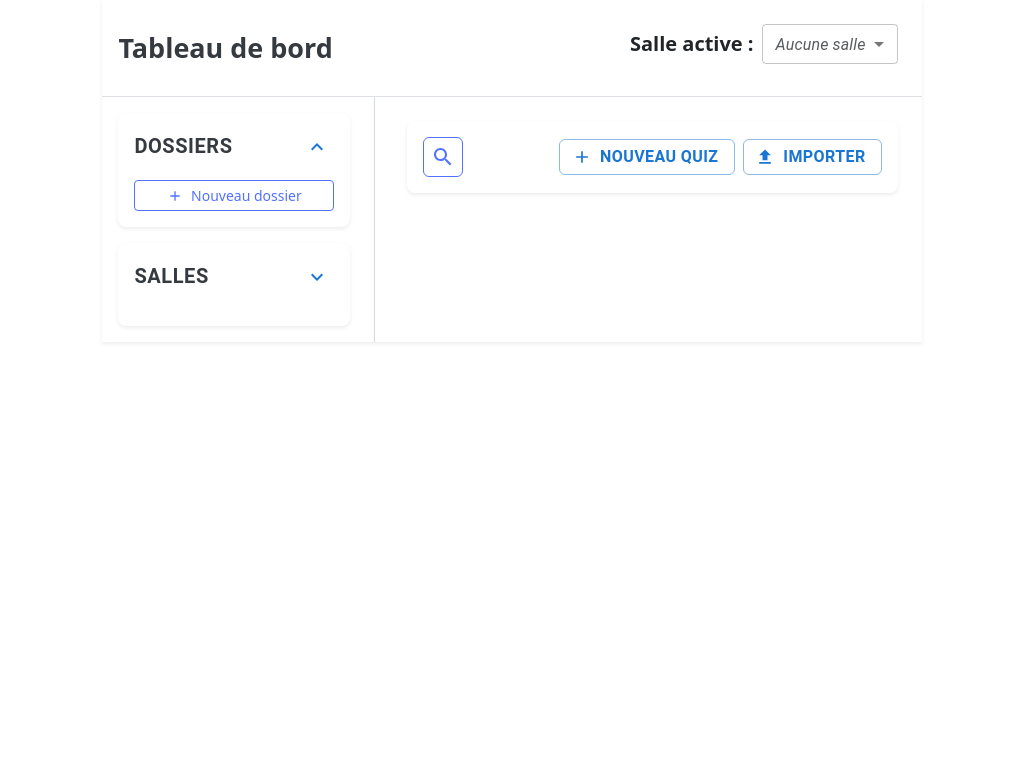
Test: DashboardV2 Component › Room Management › should open room creation dialog when selecting "Nouvelle salle"
# First expand the room options section
Click the button "Salles" at (172, 276), box [134,259,209,294]
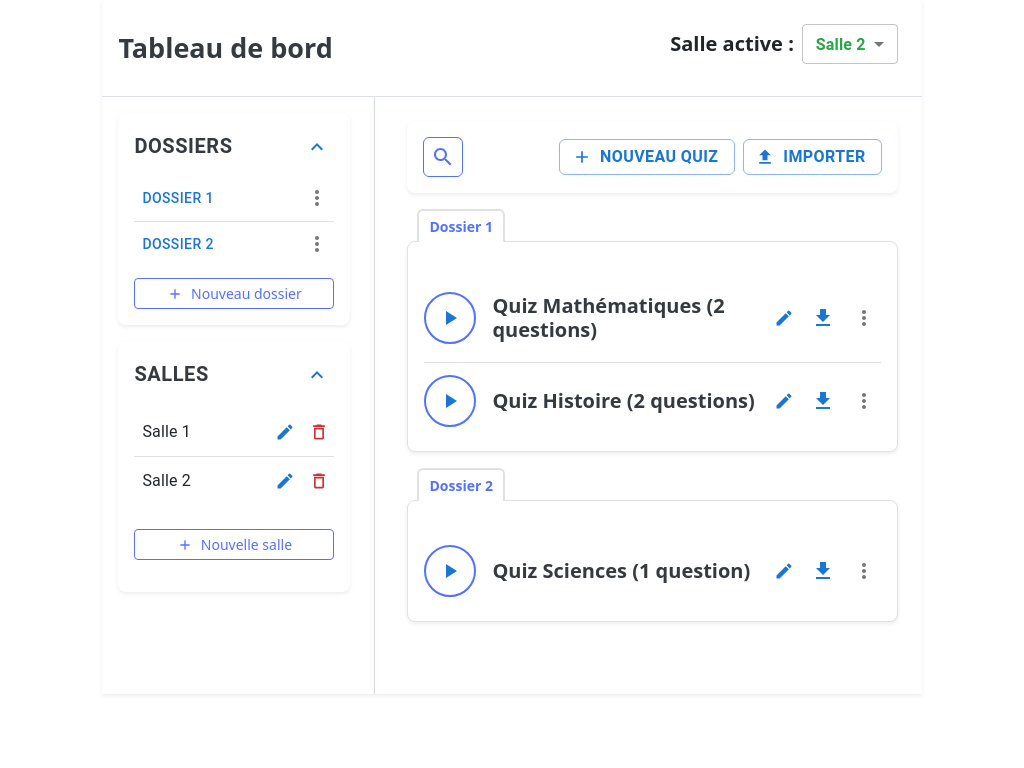
# Click the "Nouvelle salle" button
Click the button "Nouvelle salle" at (234, 544), box [134,529,334,560]
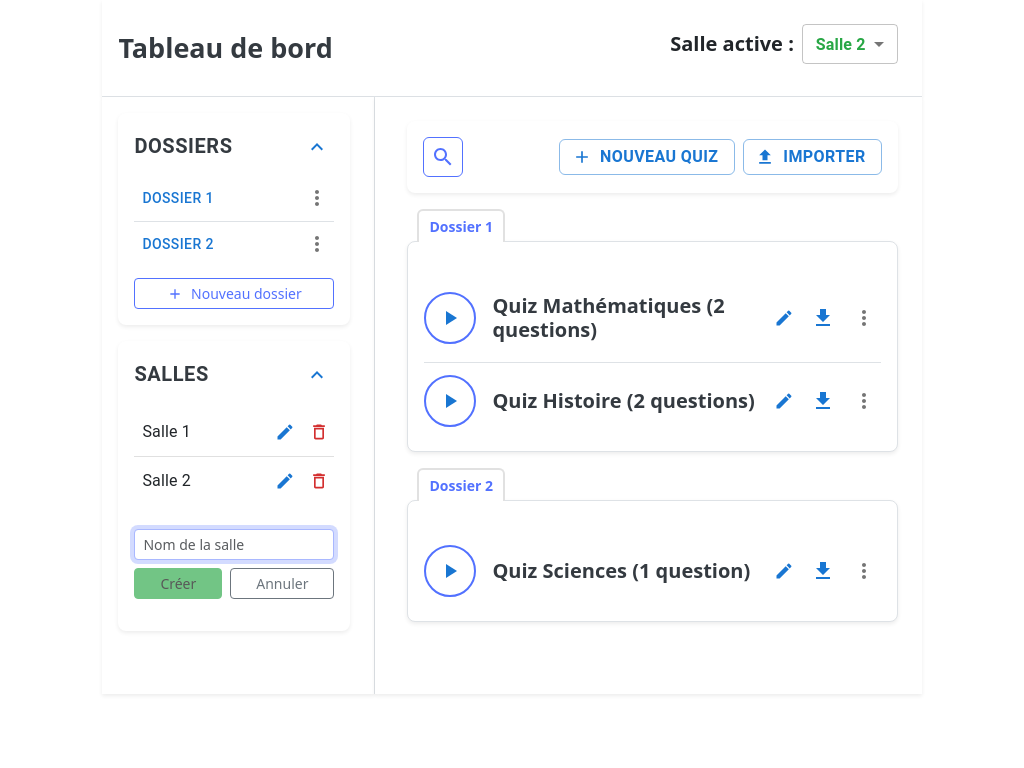
Expected: the field with placeholder "Nom de la salle" is shown, [134,529,334,560]
